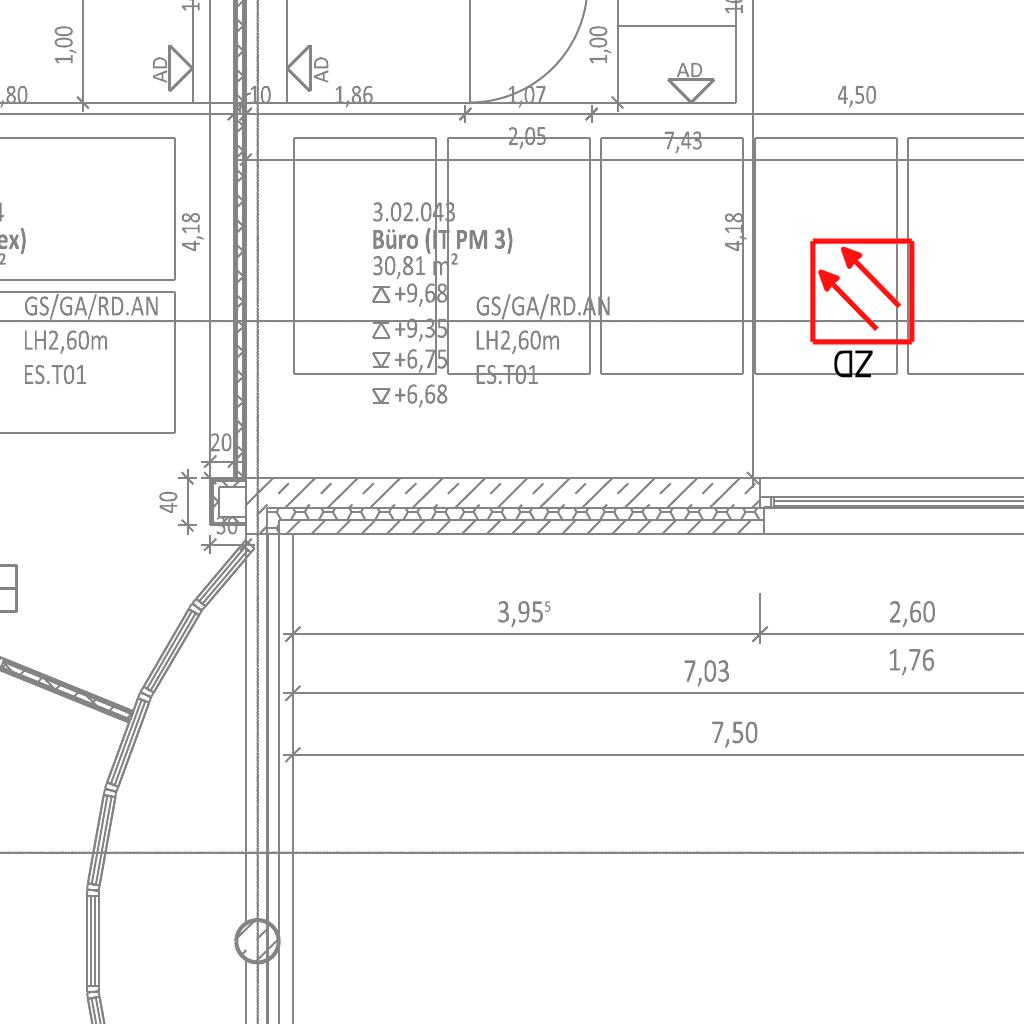ZD_Melder_in_Zwischendecke_mit_Revisionsoeffnung_mind_40_x_40_cm: (807, 236, 921, 385)
